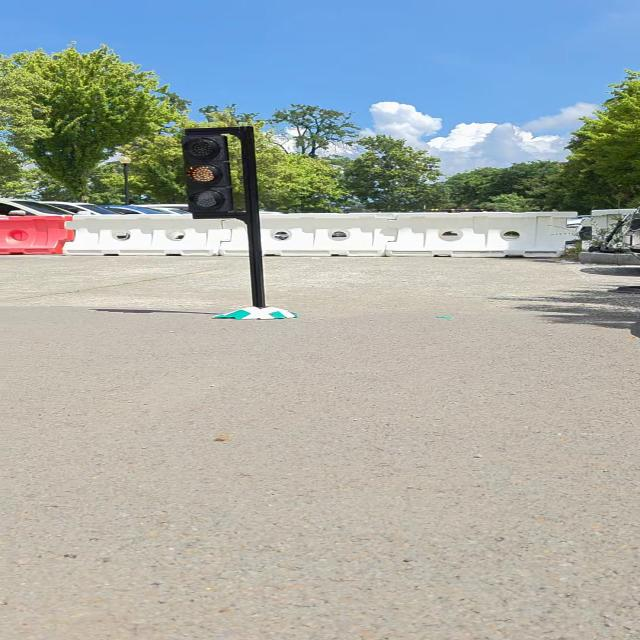yellow: (180, 134, 233, 212)
